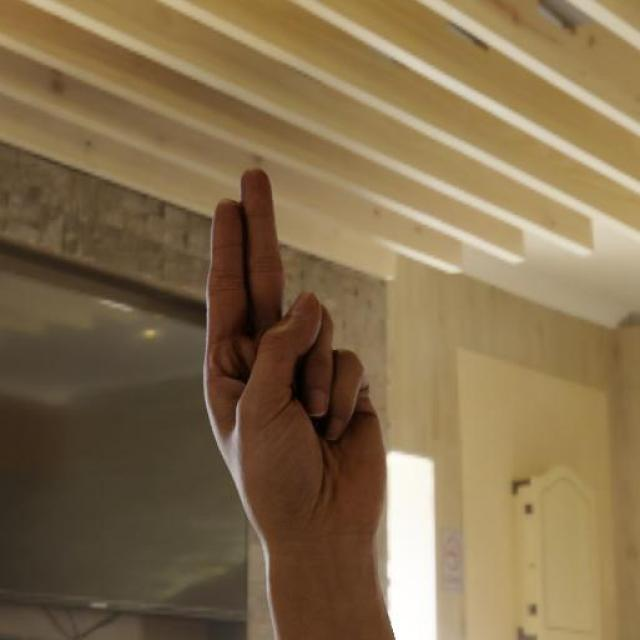U: (197, 162, 391, 568)
